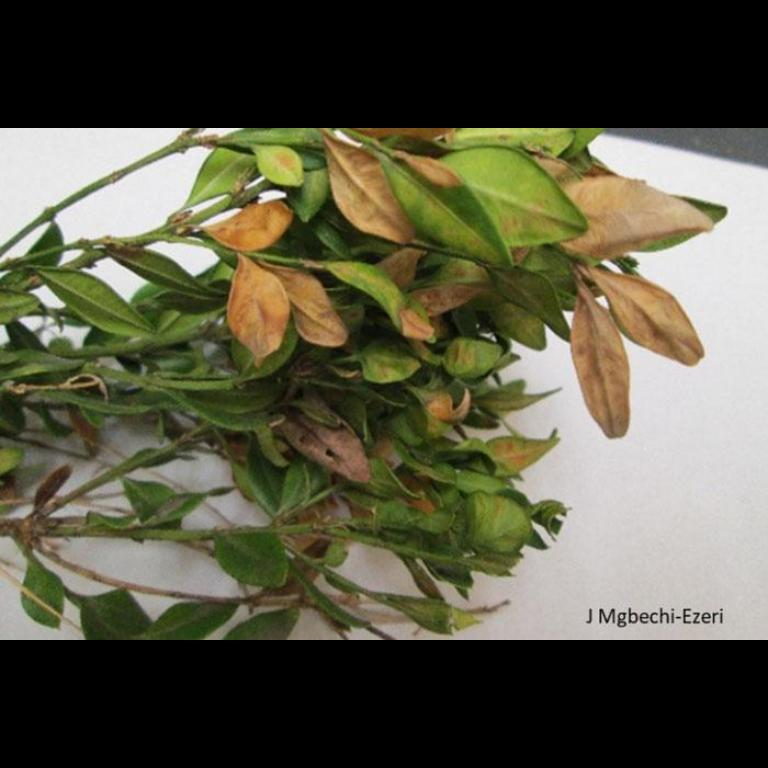blight: (229, 265, 285, 359), (402, 152, 466, 204)
